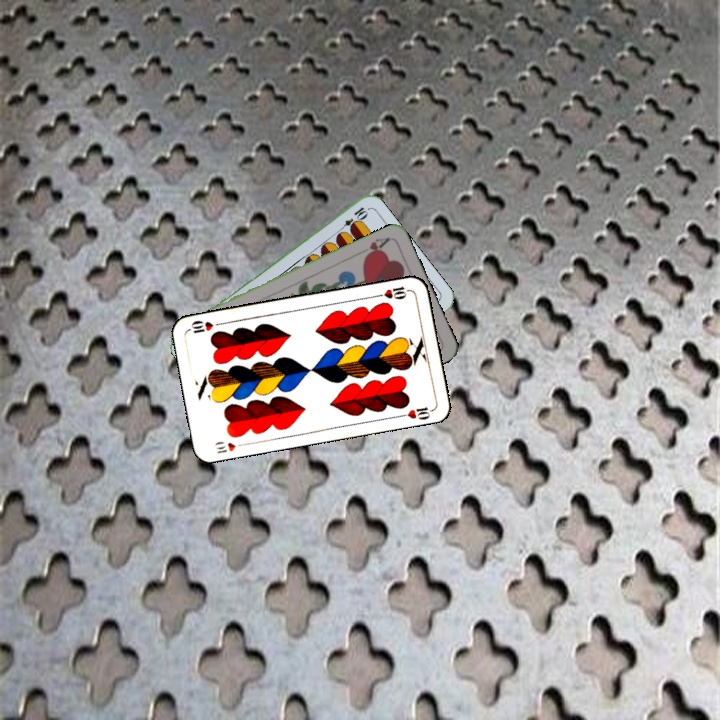E10: (334, 203, 370, 235)
H10: (372, 282, 413, 302), (211, 437, 249, 456)
HA: (354, 233, 393, 261)
